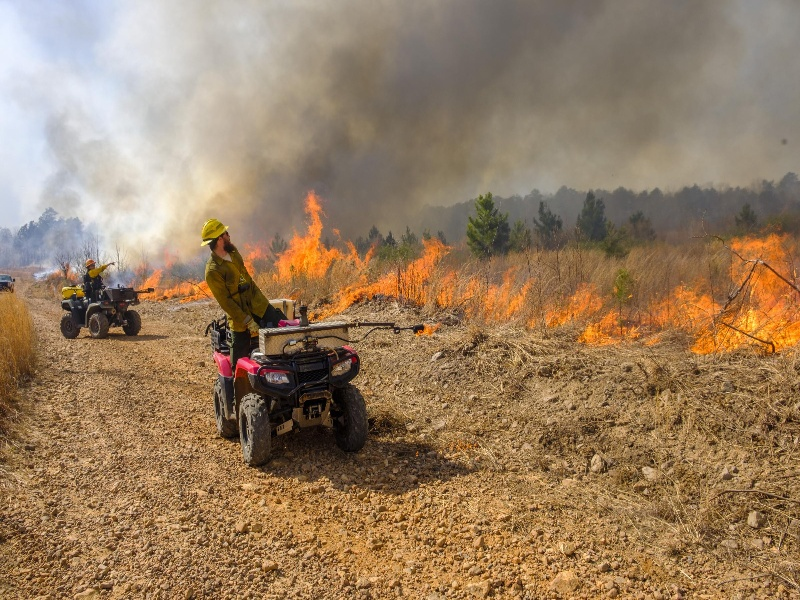smoke: (187, 2, 527, 229)
